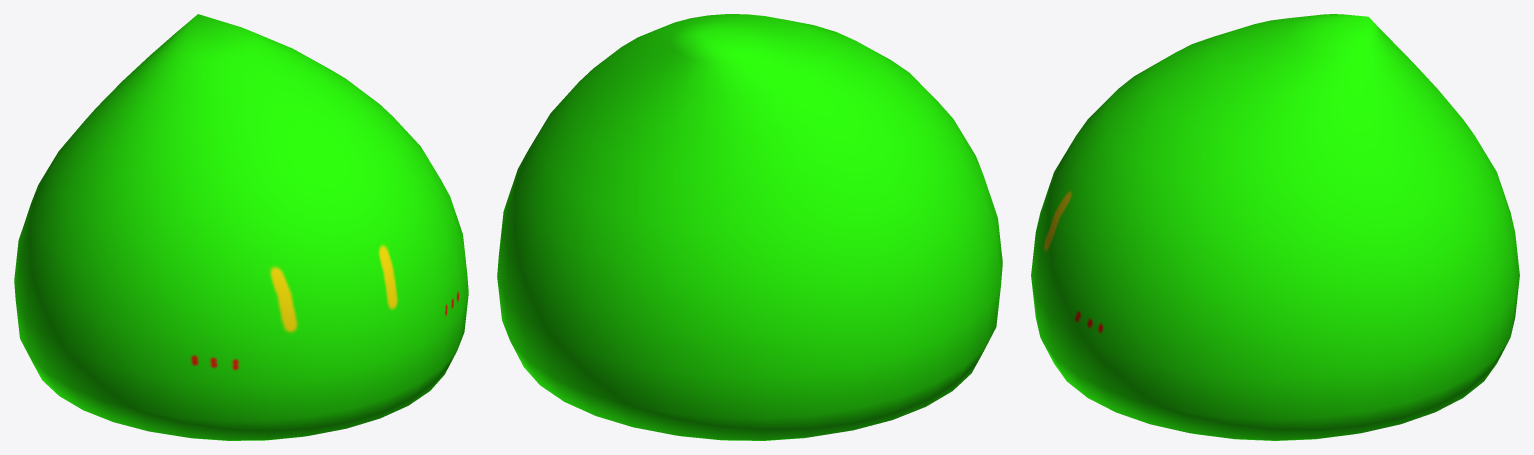
File: player.obj
3 renders of one model, left to right at view 1: azimuth 30°, elevation 25°; view 2: azimuth 150°, elevation 25°; view 3: azimuth 270°, elevation 25°, orthographic. The views are drawn at different scales.
Visible parts, largest first — view 1: 球; view 2: 球; view 3: 球.
Boxes of the visible parts, x1=… form: 球: x1=14, y1=14, x2=468, y2=440; 球: x1=497, y1=14, x2=1002, y2=440; 球: x1=1031, y1=14, x2=1519, y2=440.
Size of the model in its own units: 2 by 1.53 by 2.
1 material, 1 textured.
